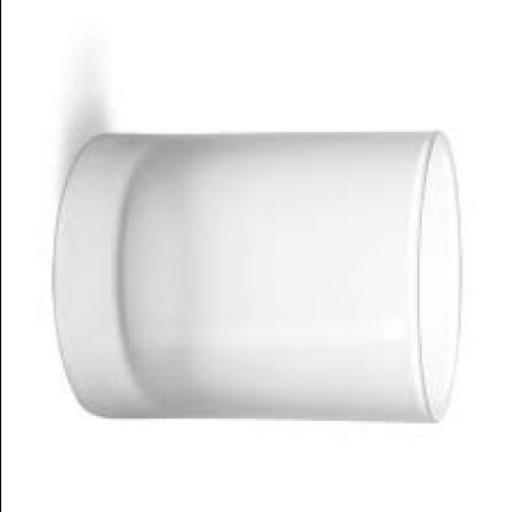glass: (53, 130, 461, 416)
